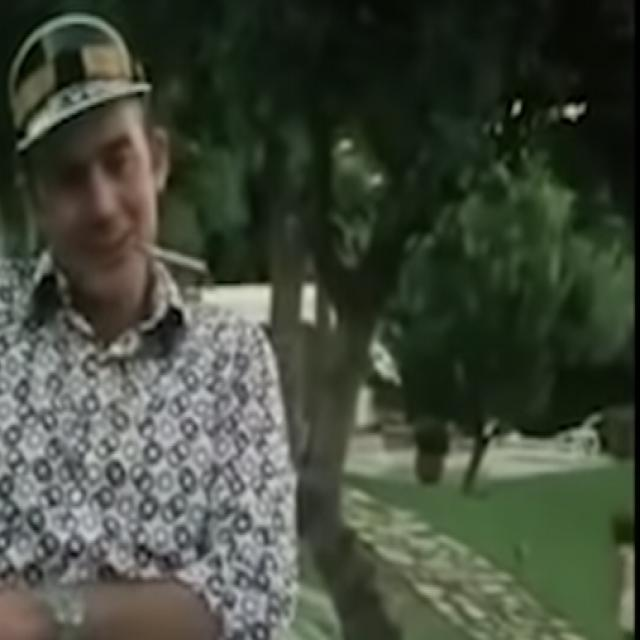cigarette: (133, 230, 240, 291)
